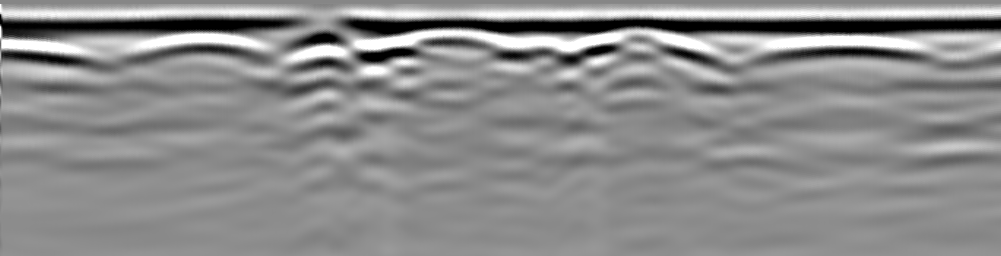pipe: (288, 15, 357, 46)
steel: (763, 34, 937, 63), (129, 34, 275, 60), (374, 33, 520, 58), (1, 37, 108, 69), (573, 30, 704, 56)
